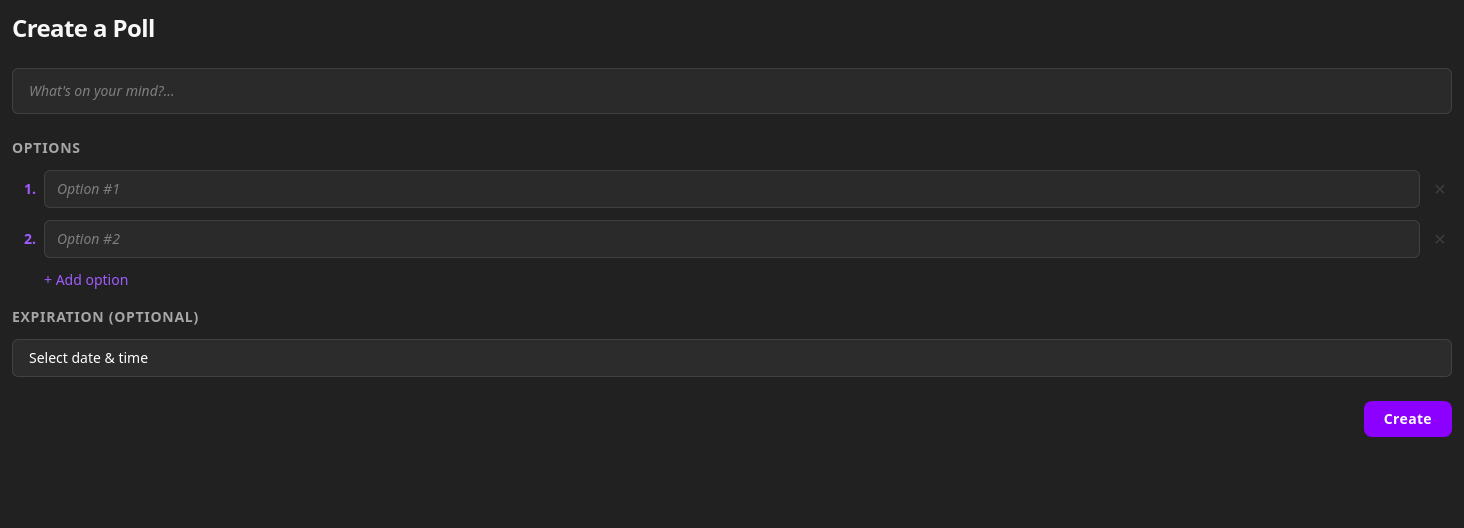
Test case: CreatePollPage › shows options error when fewer than 2 non-empty options on submit
Type "My question" into the field named "poll question".
click(732, 91); type("My question")  # box x1=12 y1=68 x2=1452 y2=114
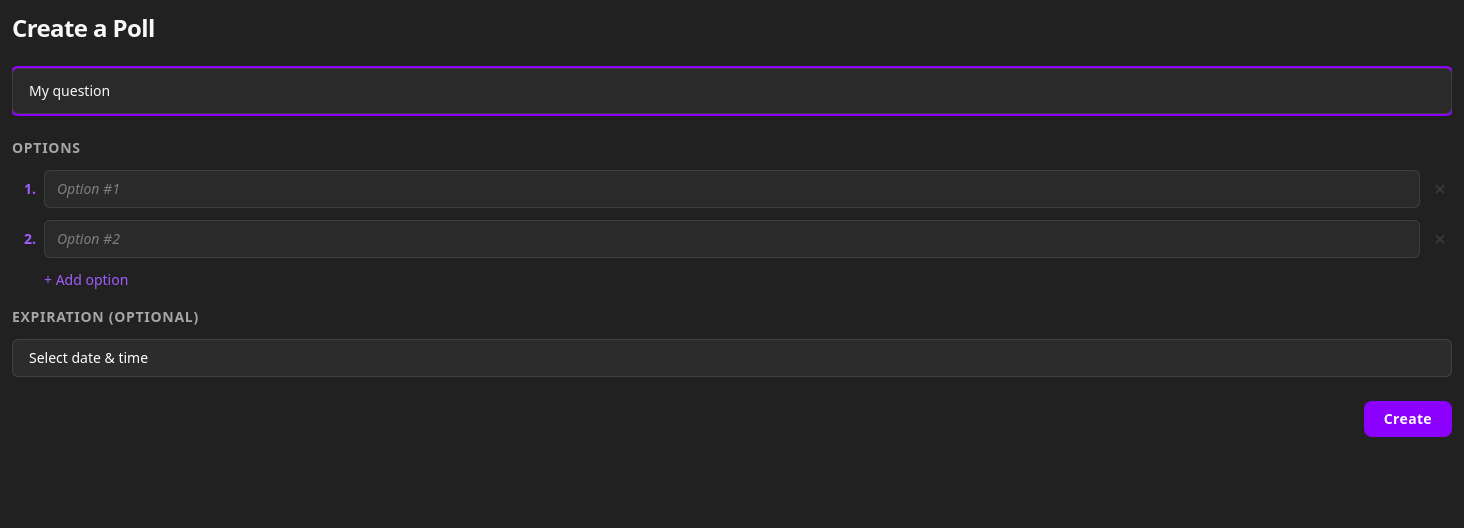
Leave both options empty
Click the button "Create".
click(1408, 419)  # box x1=1364 y1=401 x2=1452 y2=437
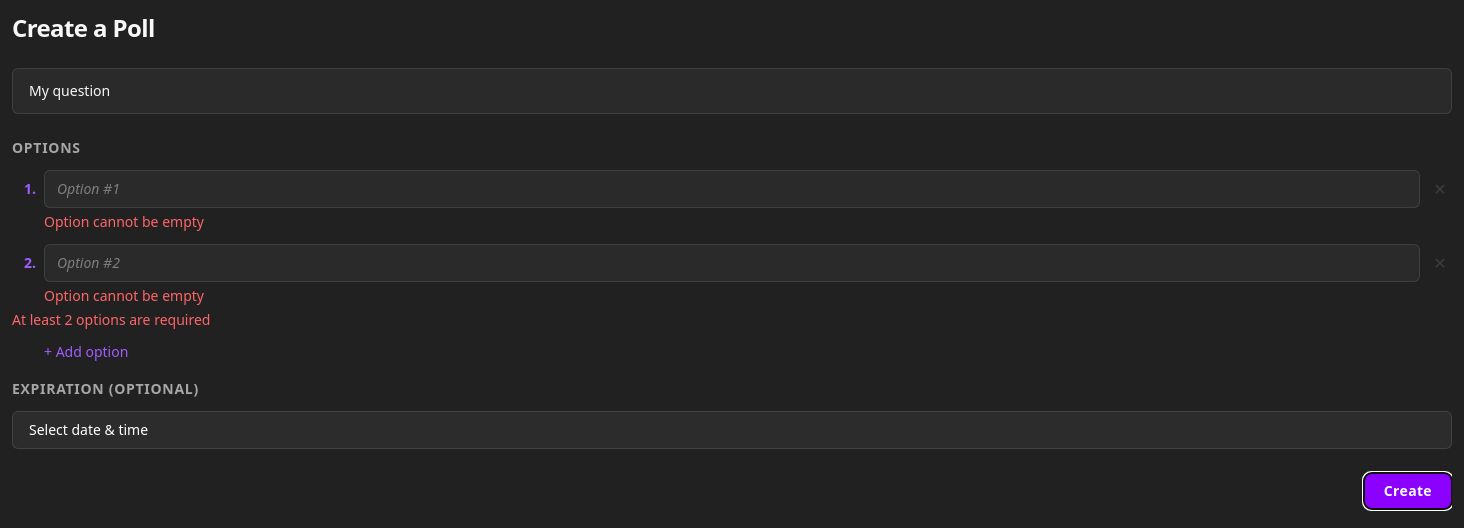
Check: the text "At least 2 options are required" is shown, box x1=12 y1=310 x2=210 y2=329
